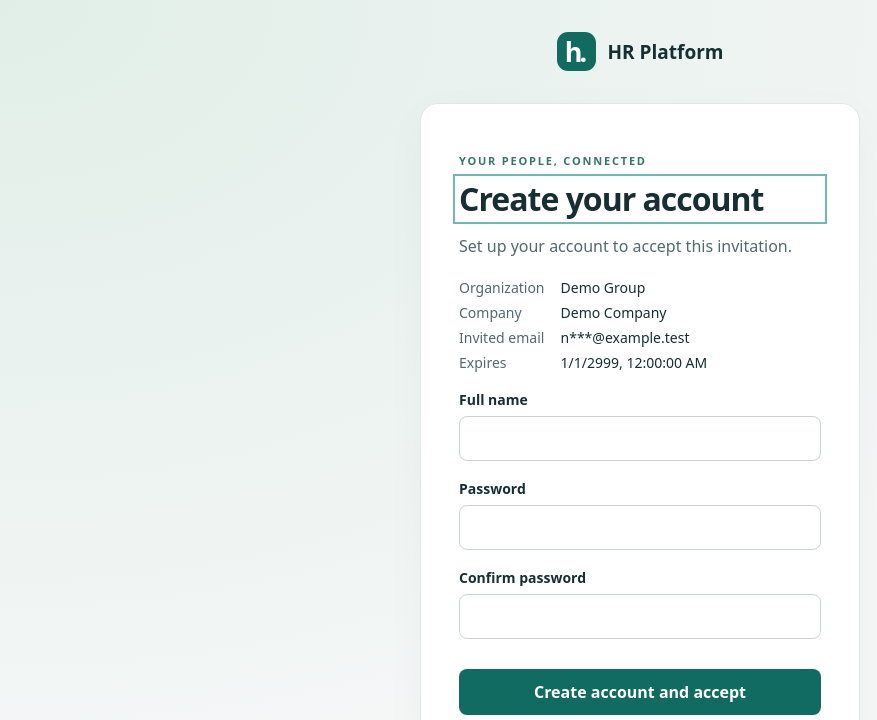
Test: accept invitation › creates a new account, then accepts and directs to sign in with MFA enrollment
The image size is (877, 720).
Check: the text "Demo Company" is shown, box [560,303,666,322]
In the field labelled "Full name": (640, 438) [459,416,821,461], type "New Person"
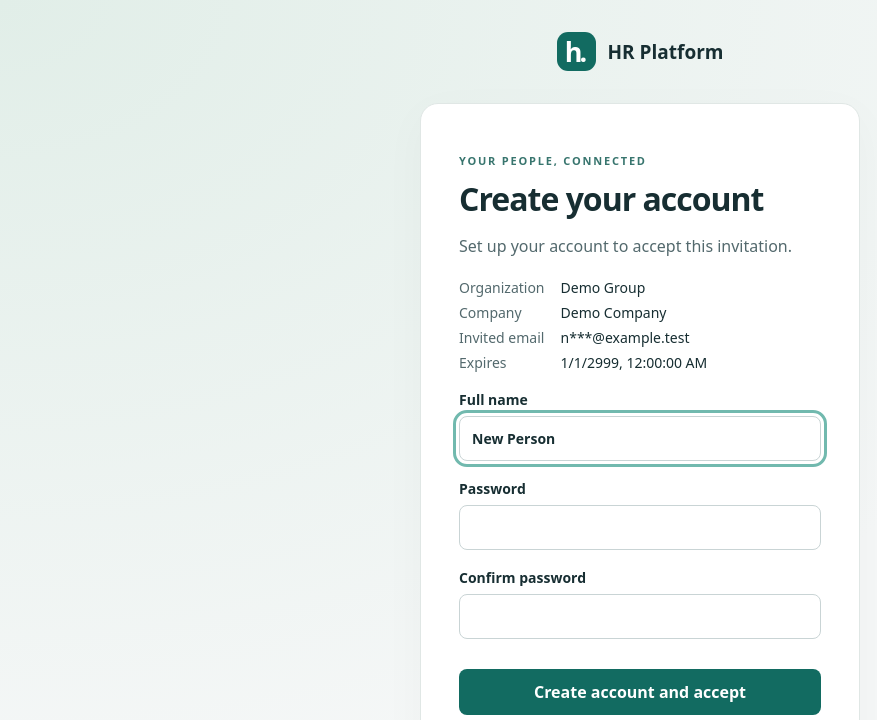
In the password field labelled "Password": (640, 528) [459,505,821,550], type "correct horse battery"
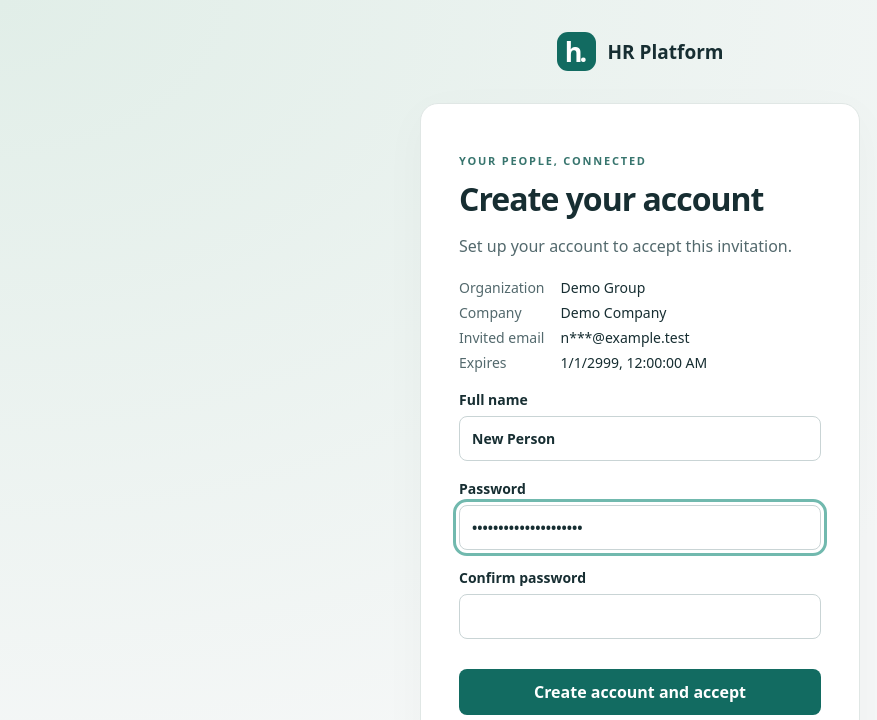
In the password field labelled "Confirm password": (640, 616) [459,594,821,639], type "correct horse battery"
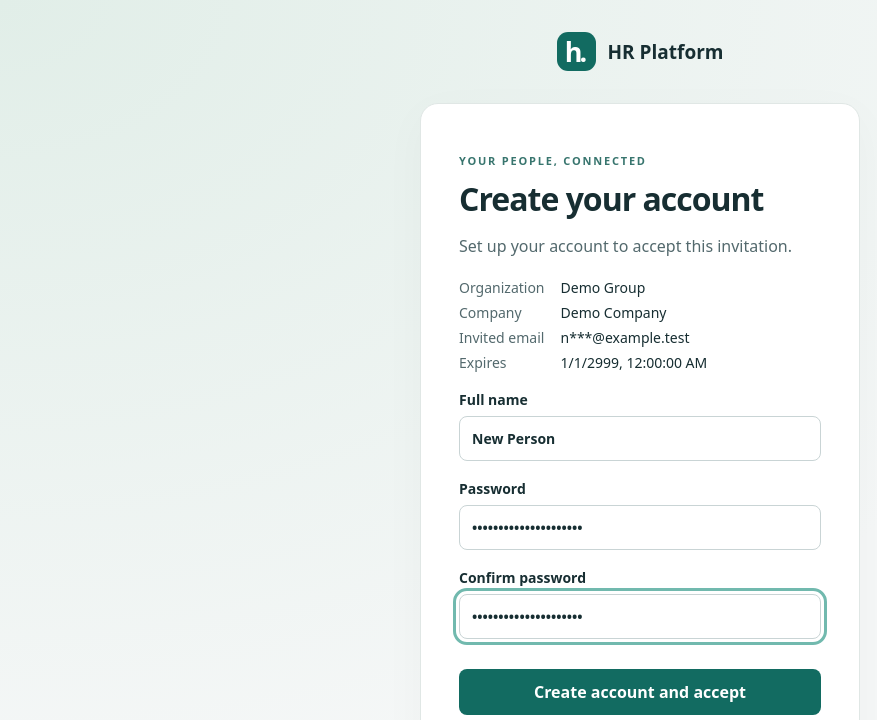
Click the button "Create account and accept": (640, 692) [459,669,821,715]
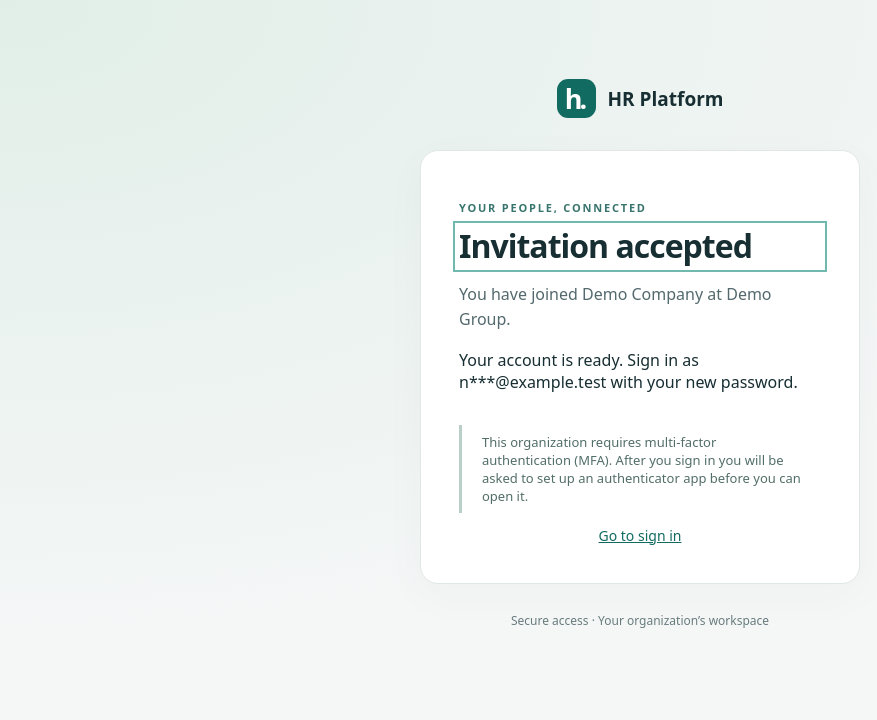
Check: the text "Your account is ready. Sign in as n***@example.test with your new password." is shown, box [459,349,821,393]
Check: the text "set up an authenticator app" is shown, box [482,433,801,505]
